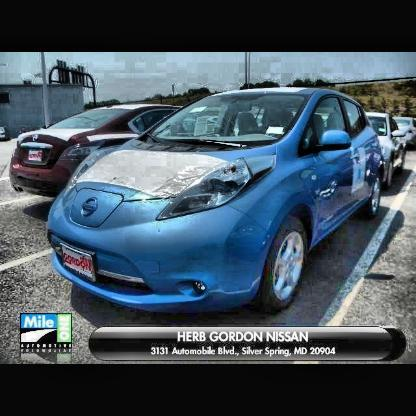Nissan Leaf Hatchback 2012: (48, 89, 384, 309)
